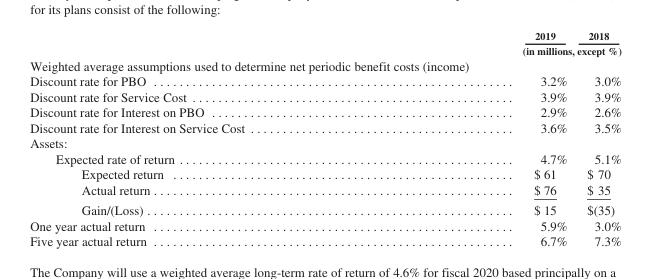table: (29, 29, 620, 248)
table column: (29, 29, 382, 248), (382, 29, 576, 248), (576, 29, 620, 248)
table column header: (29, 29, 620, 57)
table projected row header: (29, 57, 620, 73), (29, 135, 620, 150)
table row: (29, 181, 620, 199), (29, 199, 620, 217), (29, 57, 620, 73), (29, 88, 620, 104), (29, 119, 620, 135), (29, 150, 620, 166), (29, 217, 620, 233), (29, 42, 620, 57), (29, 73, 620, 88), (29, 104, 620, 119), (29, 135, 620, 150), (29, 166, 620, 181), (29, 233, 620, 248), (29, 29, 620, 42)
table spanning cell: (382, 42, 620, 57)
